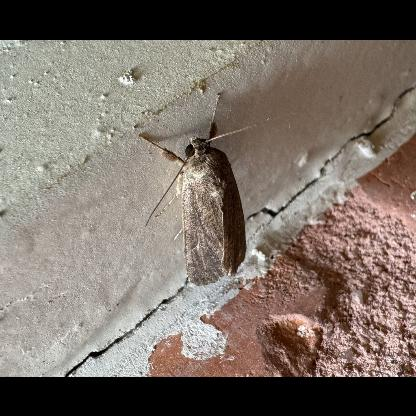Fall Armyworm Moth: (138, 90, 298, 288)
